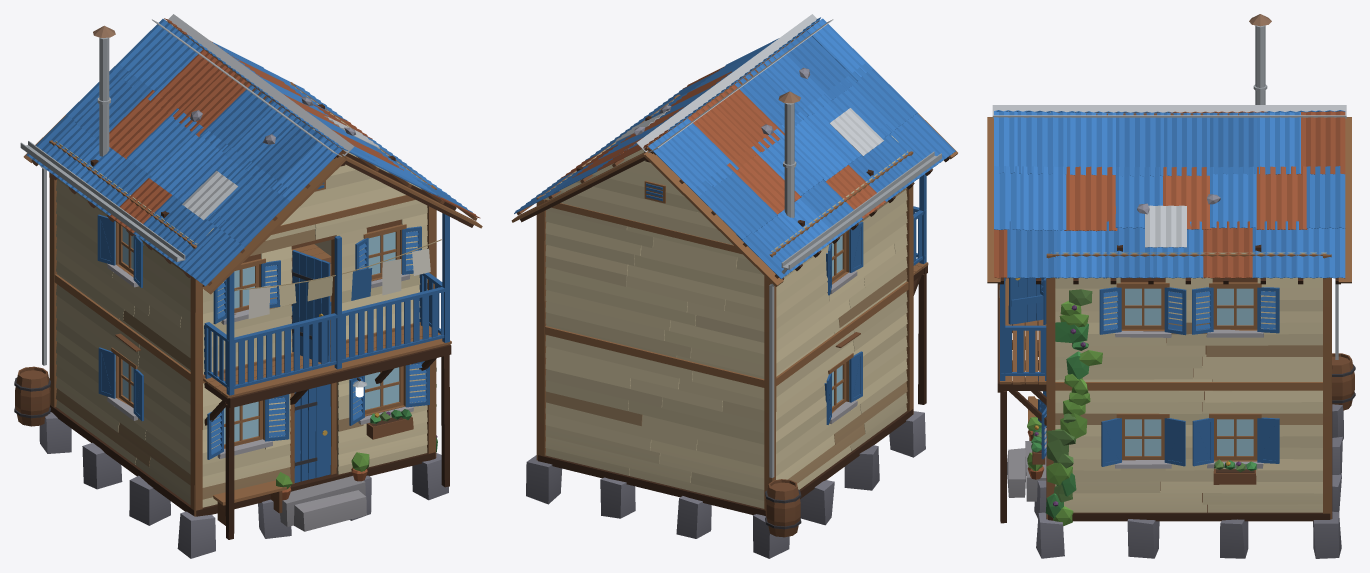
3 views of the same model, side by side, from view 1: azimuth 30°, elevation 25°; view 2: azimuth 150°, elevation 25°; view 3: azimuth 270°, elevation 25° (orthographic). The views are drawn at different scales.
Visible parts, largest first — view 1: H11_WALL_E, H11_ROOF, H11_WALL_S, H11_BASE, H11_DOOR_main, H11_WALL_N; view 2: H11_WALL_W, H11_ROOF, H11_WALL_S, H11_BASE, H11_WALL_E, H11_WALL_N; view 3: H11_WALL_N, H11_ROOF, H11_BASE, H11_WALL_E, H11_WALL_S.
Part boxes in pixels (left/top/right/bottom): H11_WALL_E: left=190, top=126, right=451, bottom=539; H11_ROOF: left=23, top=14, right=482, bottom=294; H11_WALL_S: left=14, top=141, right=196, bottom=516; H11_BASE: left=39, top=405, right=448, bottom=558; H11_DOOR_main: left=294, top=384, right=330, bottom=482; H11_WALL_N: left=290, top=82, right=437, bottom=453; H11_WALL_W: left=536, top=138, right=776, bottom=508; H11_ROOF: left=511, top=14, right=957, bottom=286; H11_WALL_S: left=764, top=151, right=941, bottom=537; H11_BASE: left=526, top=409, right=925, bottom=558; H11_WALL_E: left=675, top=39, right=928, bottom=411; H11_WALL_N: left=536, top=96, right=675, bottom=456; H11_WALL_N: left=1045, top=252, right=1331, bottom=525; H11_ROOF: left=987, top=14, right=1351, bottom=284; H11_BASE: left=1007, top=399, right=1343, bottom=558; H11_WALL_E: left=997, top=111, right=1059, bottom=523; H11_WALL_S: left=1331, top=278, right=1355, bottom=410.
Bounding box in the file's own units: 5.44 × 8 × 6.13.
